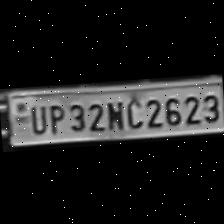2: (140, 94, 162, 127), (84, 98, 104, 131), (180, 91, 200, 124)
3: (198, 88, 220, 122), (64, 98, 86, 131)
6: (160, 92, 182, 125)
C: (122, 94, 142, 128)
N: (102, 96, 124, 130)
P: (43, 100, 65, 132)
U: (24, 102, 46, 134)
